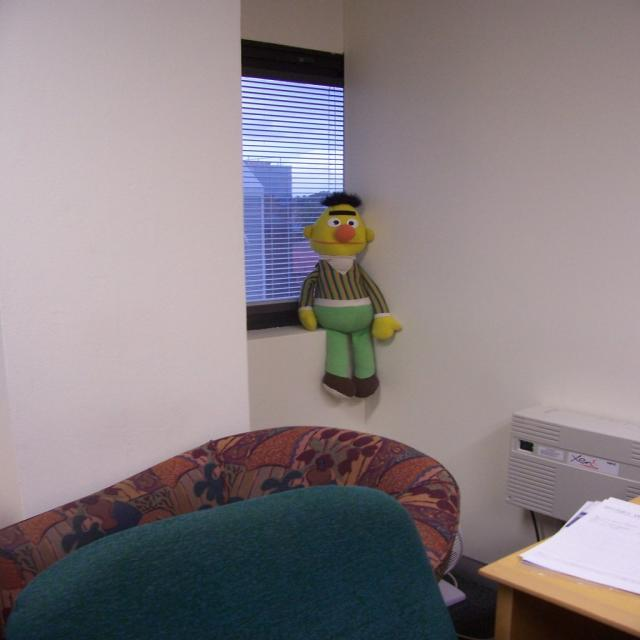Toy: (291, 191, 401, 398)
